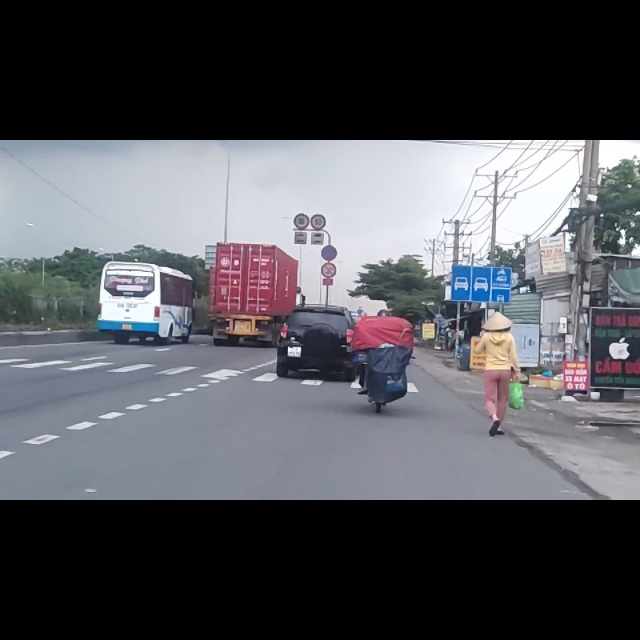Cấm dừng xe và đỗ xe: (321, 245, 337, 261)
Cấm xe 2 và 3 bánh: (321, 262, 336, 277)
Làn đường dành riêng theo phương tiện: (450, 266, 511, 303)
Tốc độ tối đa cho phép 60km/h: (311, 213, 326, 230)
Tốc độ tối đa cho phép 80km/h: (294, 213, 309, 229)
